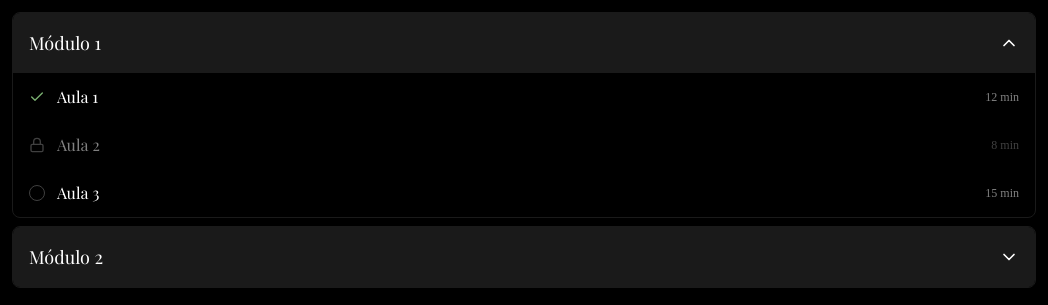
Test: LessonList › toggles module on header click
Click the button "Módulo 2": point(66, 257) [13,227,1035,287]
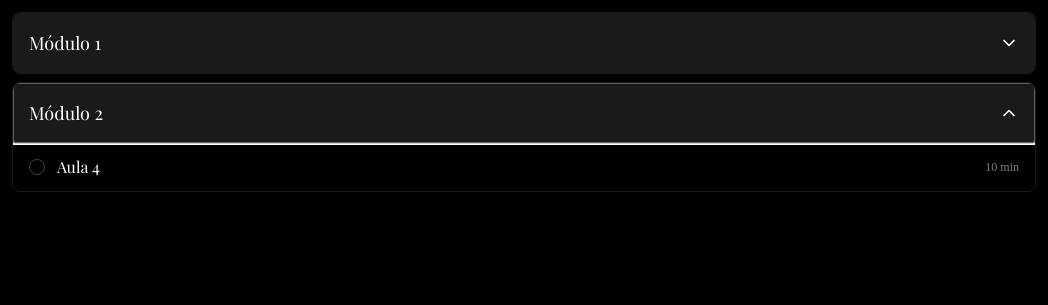
Check: the text "Aula 4" is shown, box [57,156,100,177]
